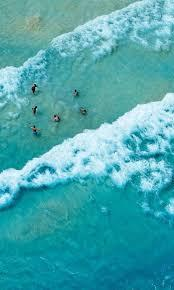Person: (29, 81, 41, 96), (72, 86, 82, 100), (32, 104, 41, 119), (31, 123, 41, 136), (50, 112, 62, 122), (78, 106, 88, 115)
